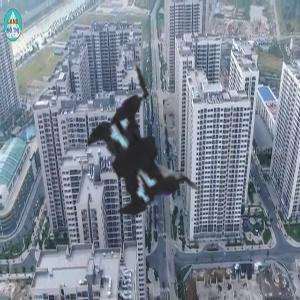drone: (4, 13, 285, 294)
